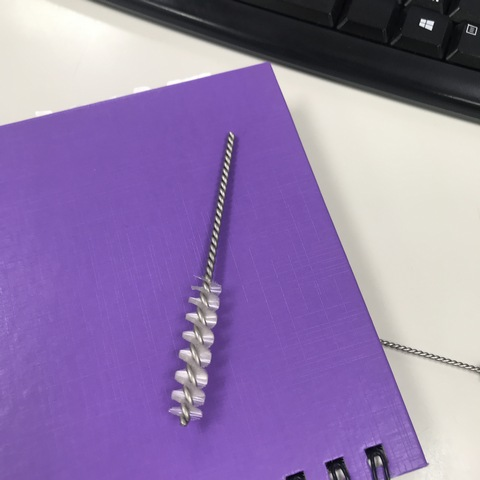Twist Brush-A: (377, 336, 480, 375)
Twist Brush-B: (165, 129, 246, 432)
